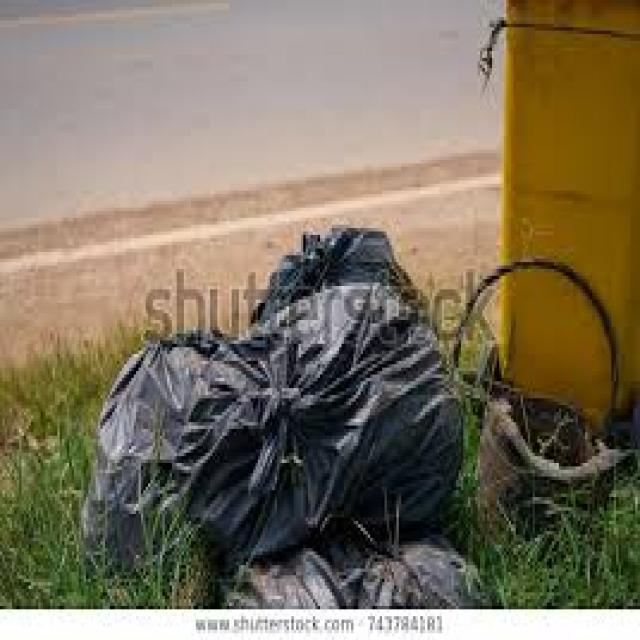plastic_bag: (185, 287, 476, 532), (68, 335, 221, 576), (343, 548, 494, 616), (269, 213, 405, 288), (227, 549, 339, 607)
